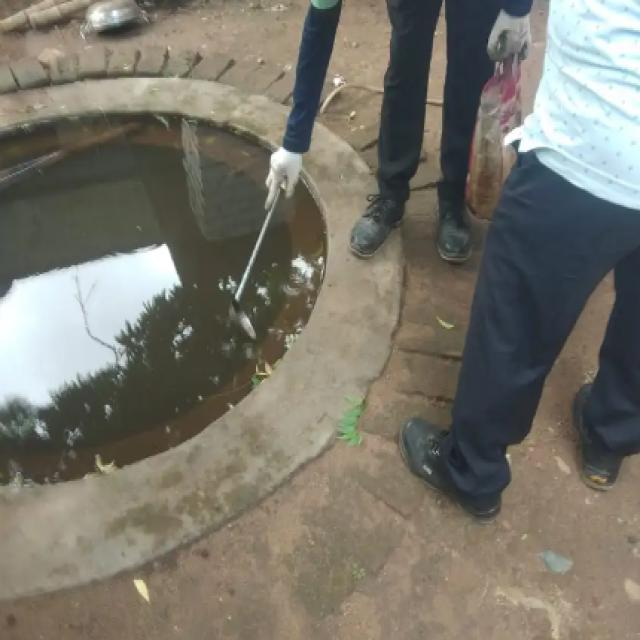Breeding Place: (0, 118, 327, 493)
